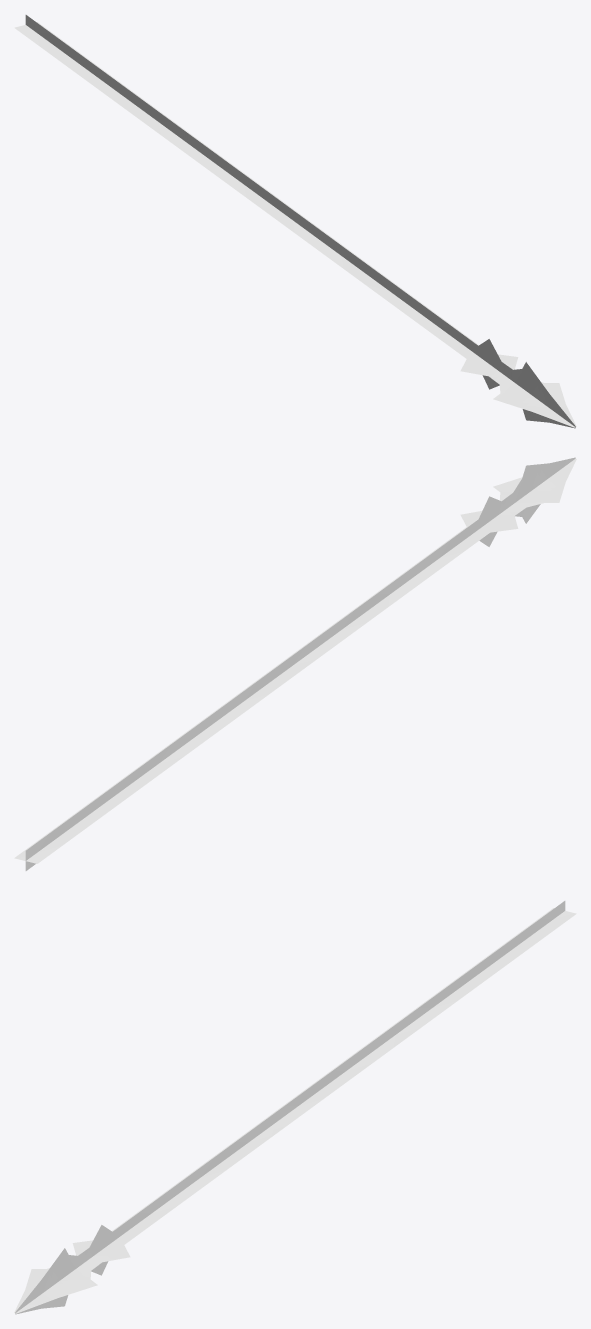
Rendered from proj_golemarcher_att01.fbx.
3 views of the same model, one above another, from view 1: azimuth 30°, elevation 25°; view 2: azimuth 150°, elevation 25°; view 3: azimuth 330°, elevation 25° (orthographic).
Visible parts, largest first — view 1: mesh_arrow; view 2: mesh_arrow; view 3: mesh_arrow.
Part boxes in pixels (x1,y1,x2,y2): mesh_arrow: (14,15,576,428); mesh_arrow: (14,457,576,870); mesh_arrow: (14,901,576,1314).
Size of the model in its own units: 0.164 by 0.1382 by 2.35.
Materials: 1 (1 with a texture image).
